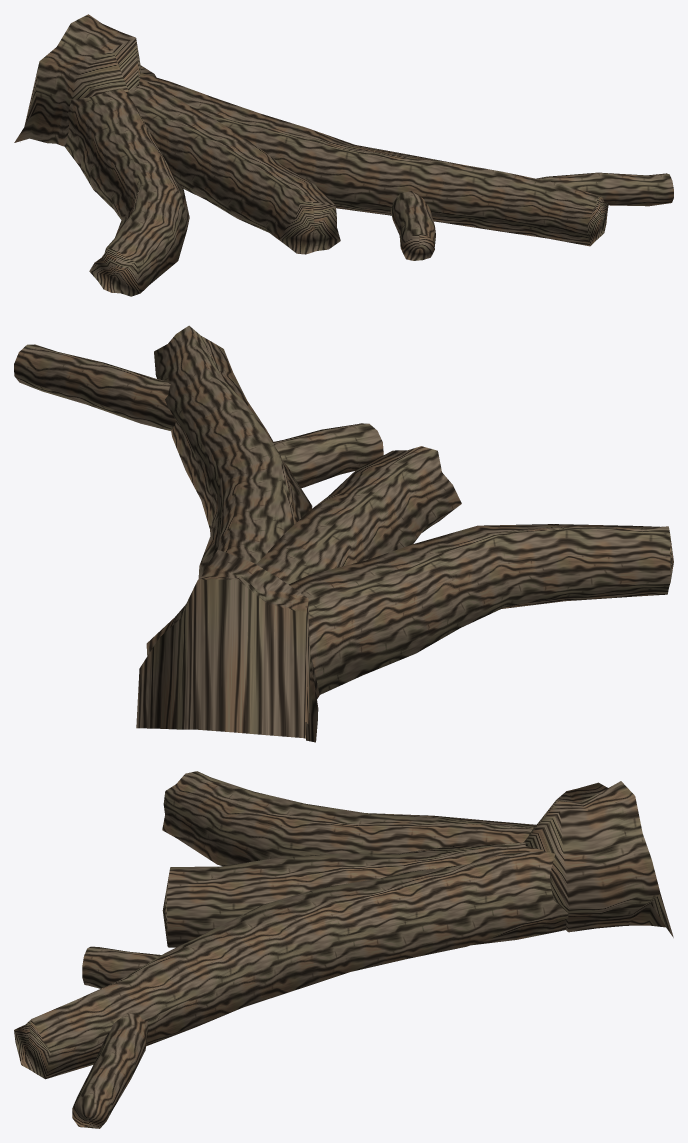
Rendered from fallen-a.lod0.glb.
The picture shows the model from 3 angles, top to bottom: view 1: azimuth 30°, elevation 25°; view 2: azimuth 150°, elevation 25°; view 3: azimuth 270°, elevation 25°; orthographic projection. The views are drawn at different scales.
Parts seen in each view (by area): view 1: bark; view 2: bark; view 3: bark.
Part boxes in pixels (x1,y1,x2,y2): bark: (14, 14, 673, 296); bark: (14, 325, 673, 742); bark: (14, 771, 673, 1128).
Bounding box in the file's own units: 4.7 × 0.8975 × 4.23.
1 material, 1 textured.
